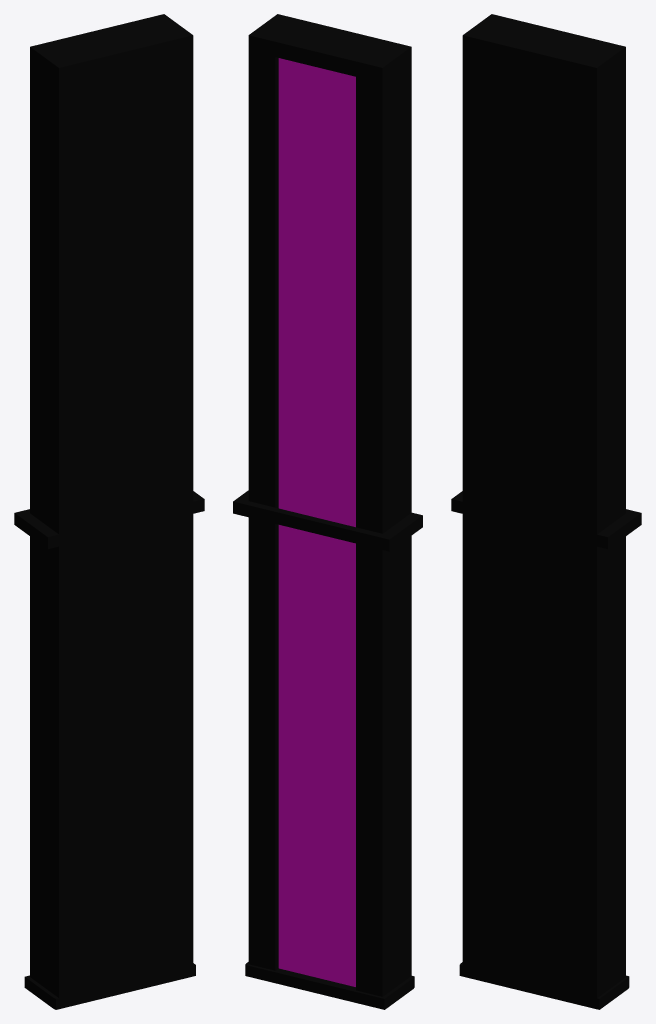
File: Pillar_Rect.fbx
3 renders of one model, left to right at view 1: azimuth 30°, elevation 25°; view 2: azimuth 150°, elevation 25°; view 3: azimuth 330°, elevation 25°, orthographic.
Visible parts, largest first — view 1: Cube; view 2: Cube; view 3: Cube.
Part boxes in pixels (x1,y1,x2,y2): Cube: [14, 14, 204, 1009]; Cube: [233, 14, 422, 1009]; Cube: [451, 14, 641, 1009].
Bounding box in the file's own units: 700 × 4019 × 258.
